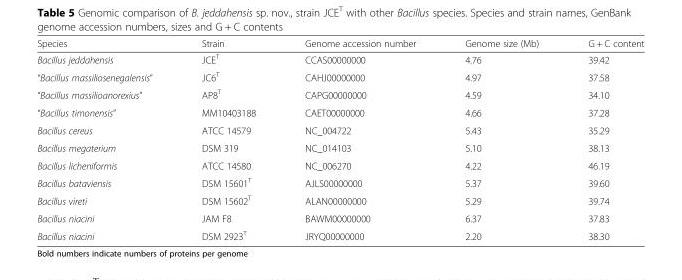table: (36, 37, 643, 241)
table column: (279, 37, 439, 241), (36, 37, 176, 241), (439, 37, 562, 241), (176, 37, 279, 241), (562, 37, 643, 241)
table column header: (36, 37, 643, 50)
table row: (36, 67, 643, 85), (36, 85, 643, 103), (36, 103, 643, 121), (36, 138, 643, 156), (36, 173, 643, 191), (36, 191, 643, 209), (36, 50, 643, 67), (36, 121, 643, 138), (36, 156, 643, 173), (36, 209, 643, 226), (36, 226, 643, 241), (36, 37, 643, 50)
